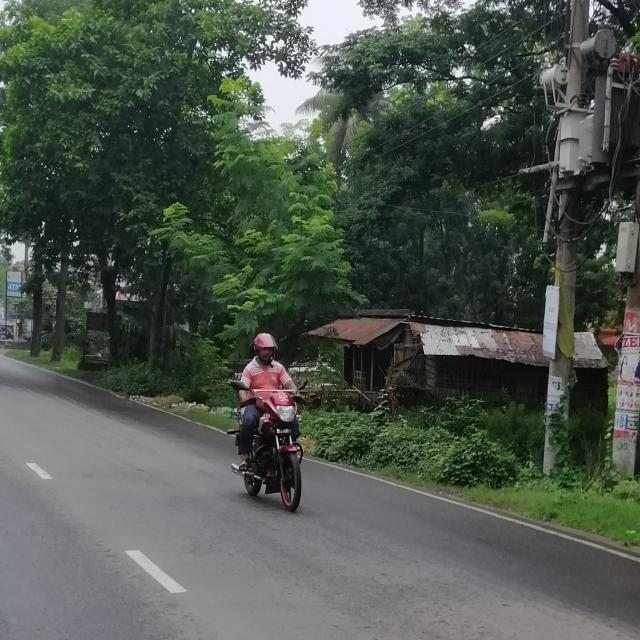Motorbike: (229, 378, 330, 521)
